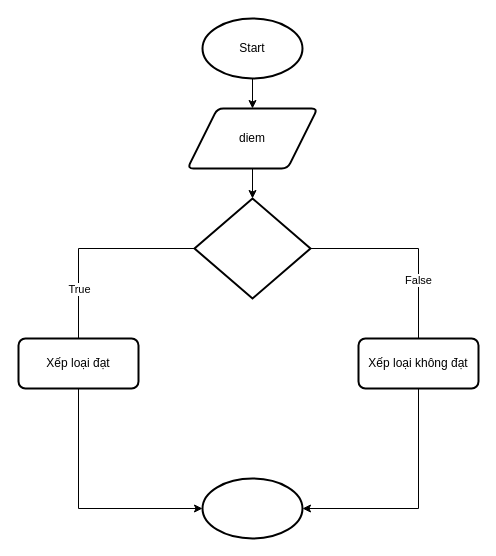
The diagram is 496 pixels wide and 556 high, and some of its shapes have lost their labels. Here are the shapes that lost their labels. From the top down, the centre of each, then its label:
[252,248]: diem > 5
[252,508]: End
